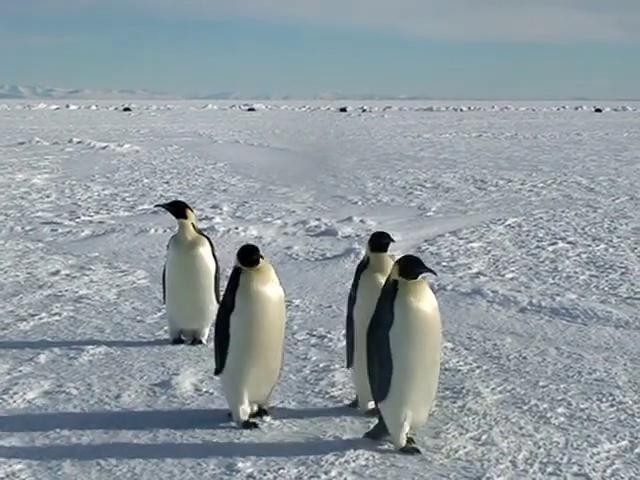animal: (365, 256, 442, 455)
